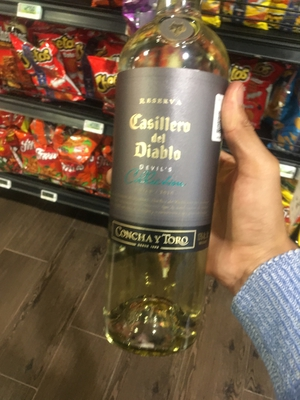casillero del diablo devils collection verde: (90, 12, 249, 357)
